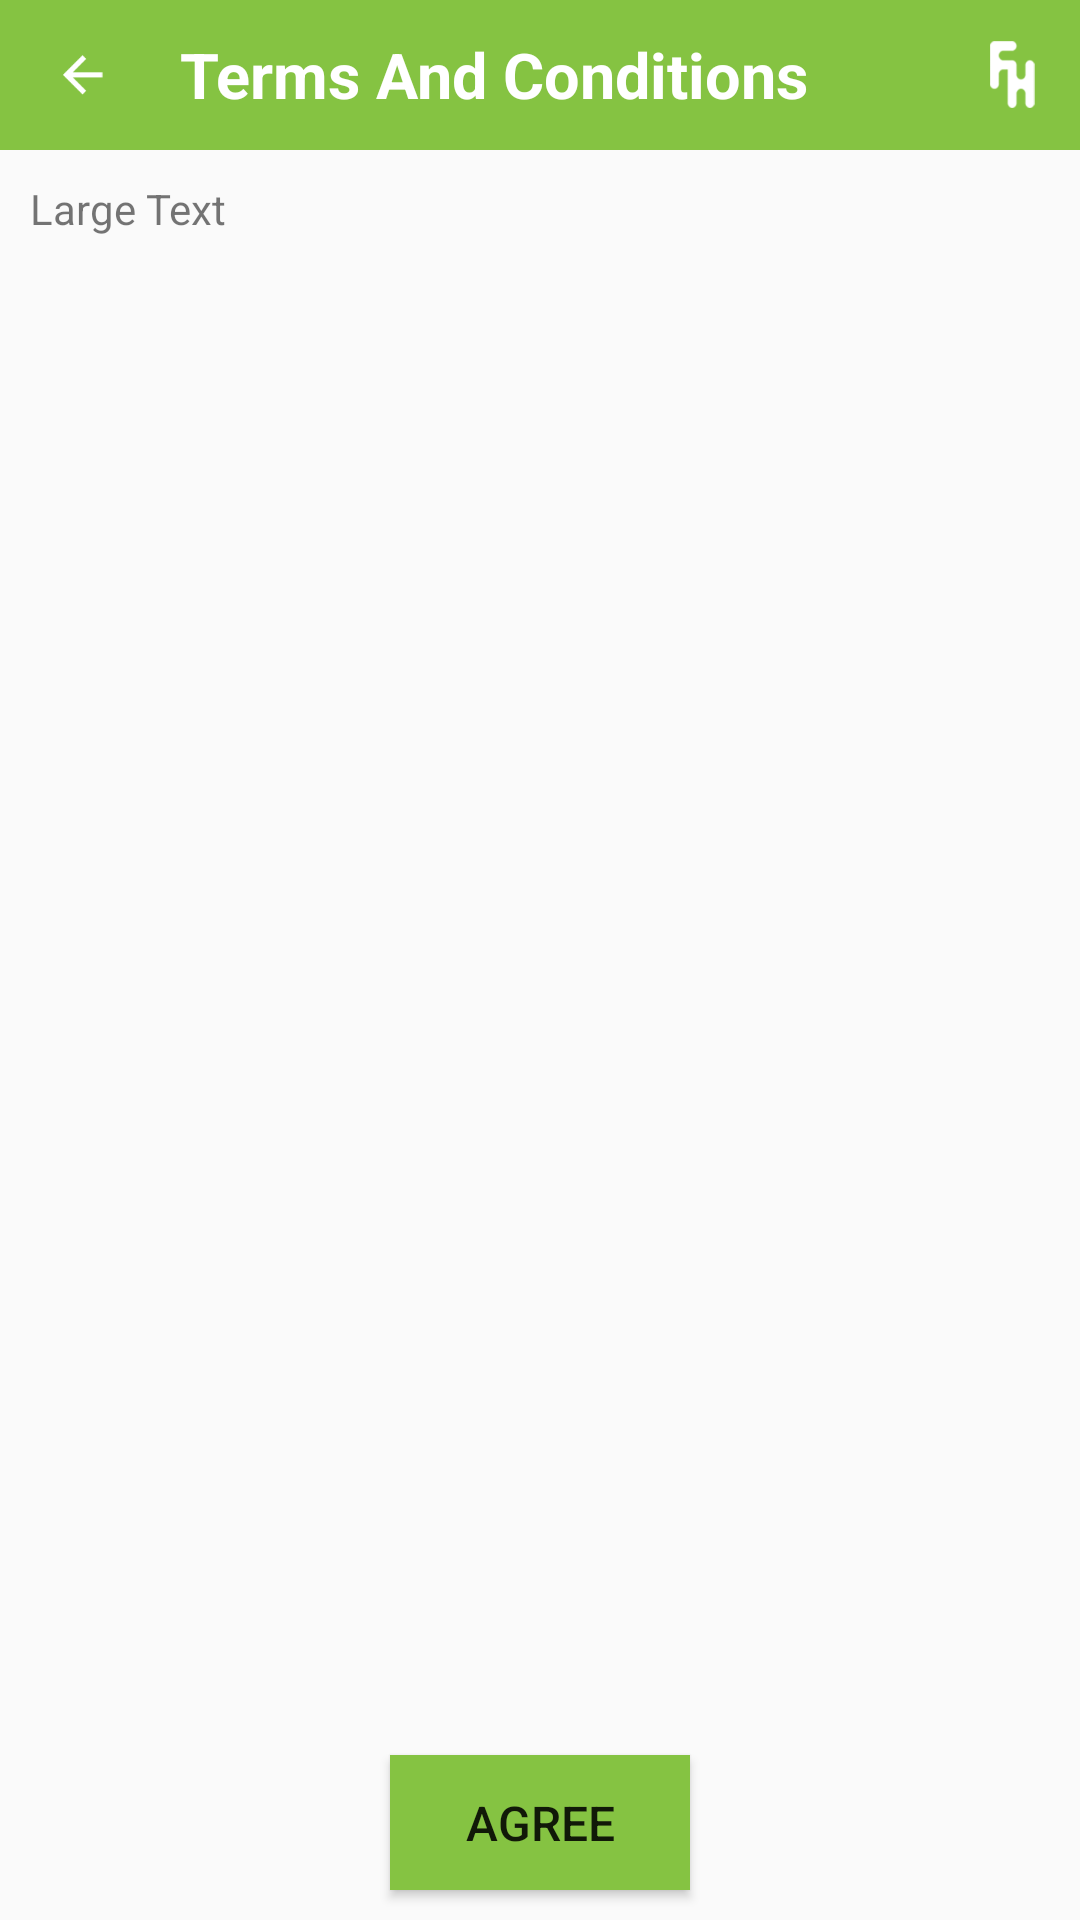

Where to tap for icons on this 1080 x 1920 app screen, as [x,y]:
back: [83,75]
